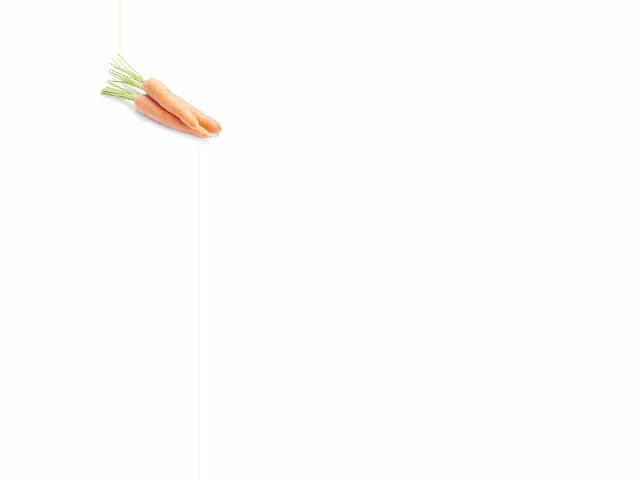carrot: (119, 94, 215, 140)
